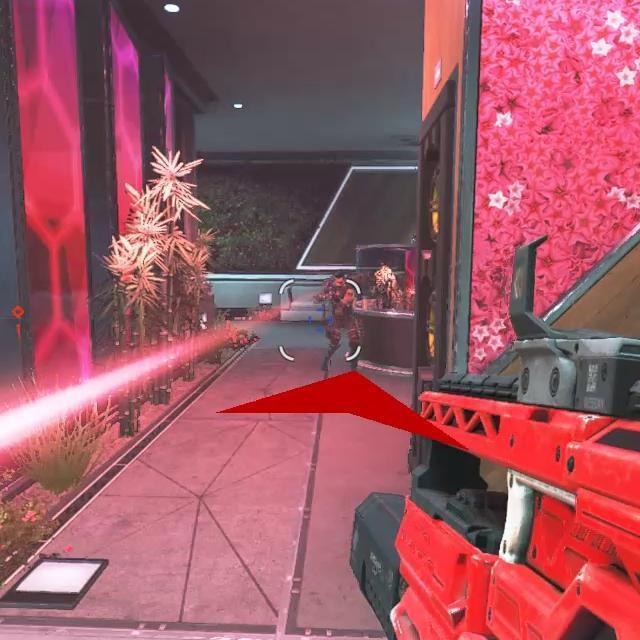avatar: (313, 270, 361, 379)
